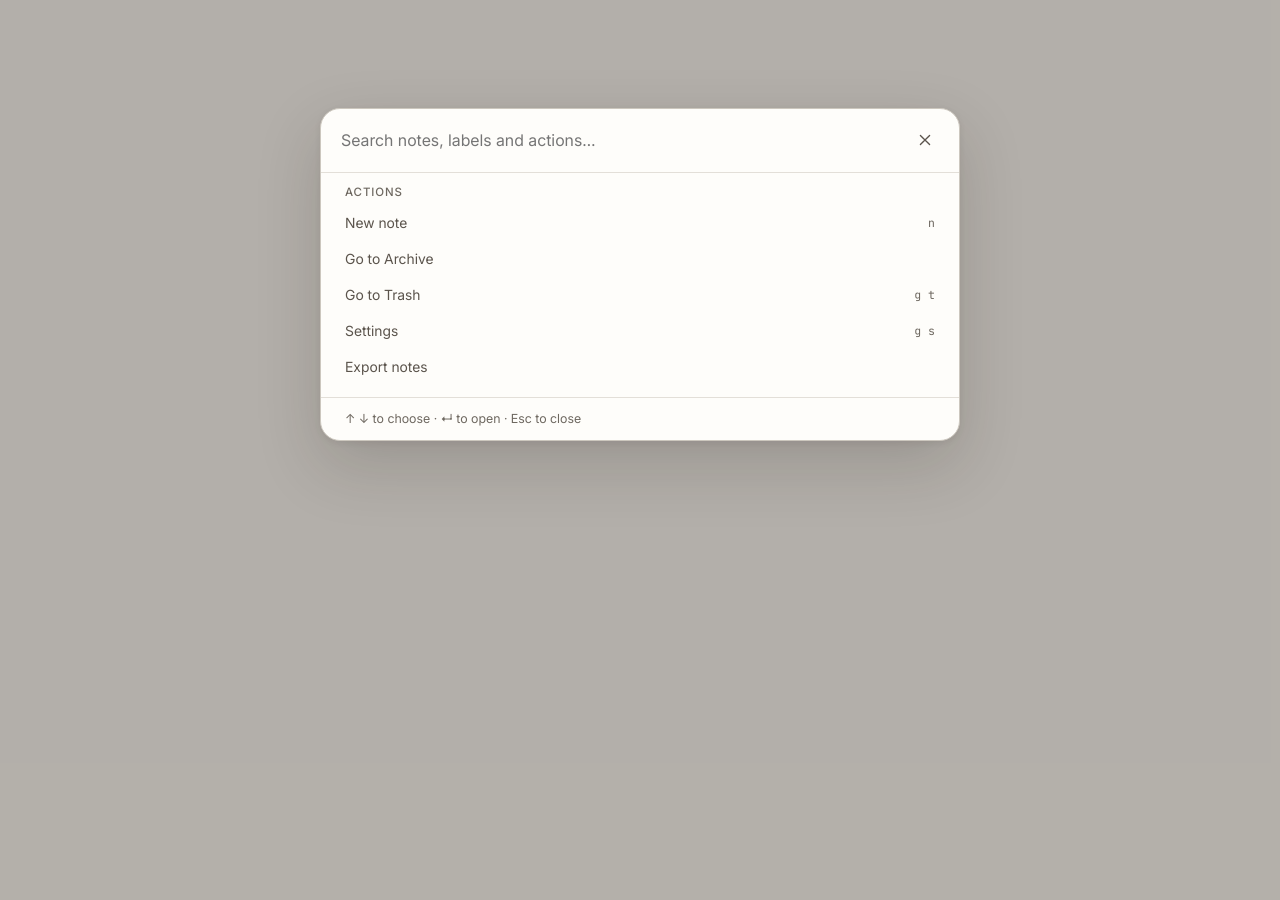
Test: asks a typed question with Enter and retains it beside the answer
The width and height of the screenshot is (1280, 900).
Type "What did I decide?" into the field named "Search and commands" at (612, 140), box top-left (321, 109), bottom-right (903, 172)
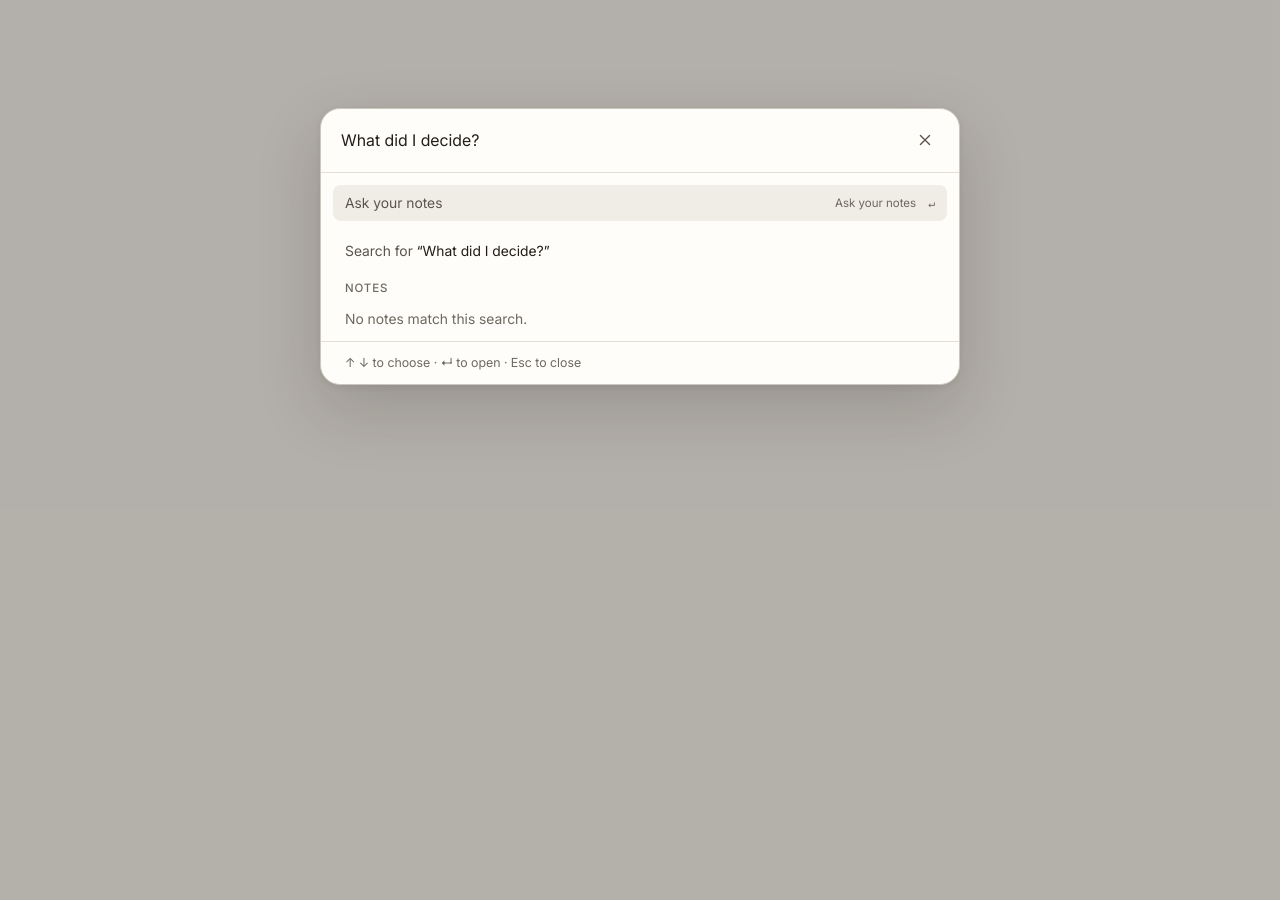
Now the option "Ask your notes Ask your notes" is shown, box top-left (333, 185), bottom-right (947, 221)
Press Enter in the field named "Search and commands", box top-left (321, 109), bottom-right (903, 172)
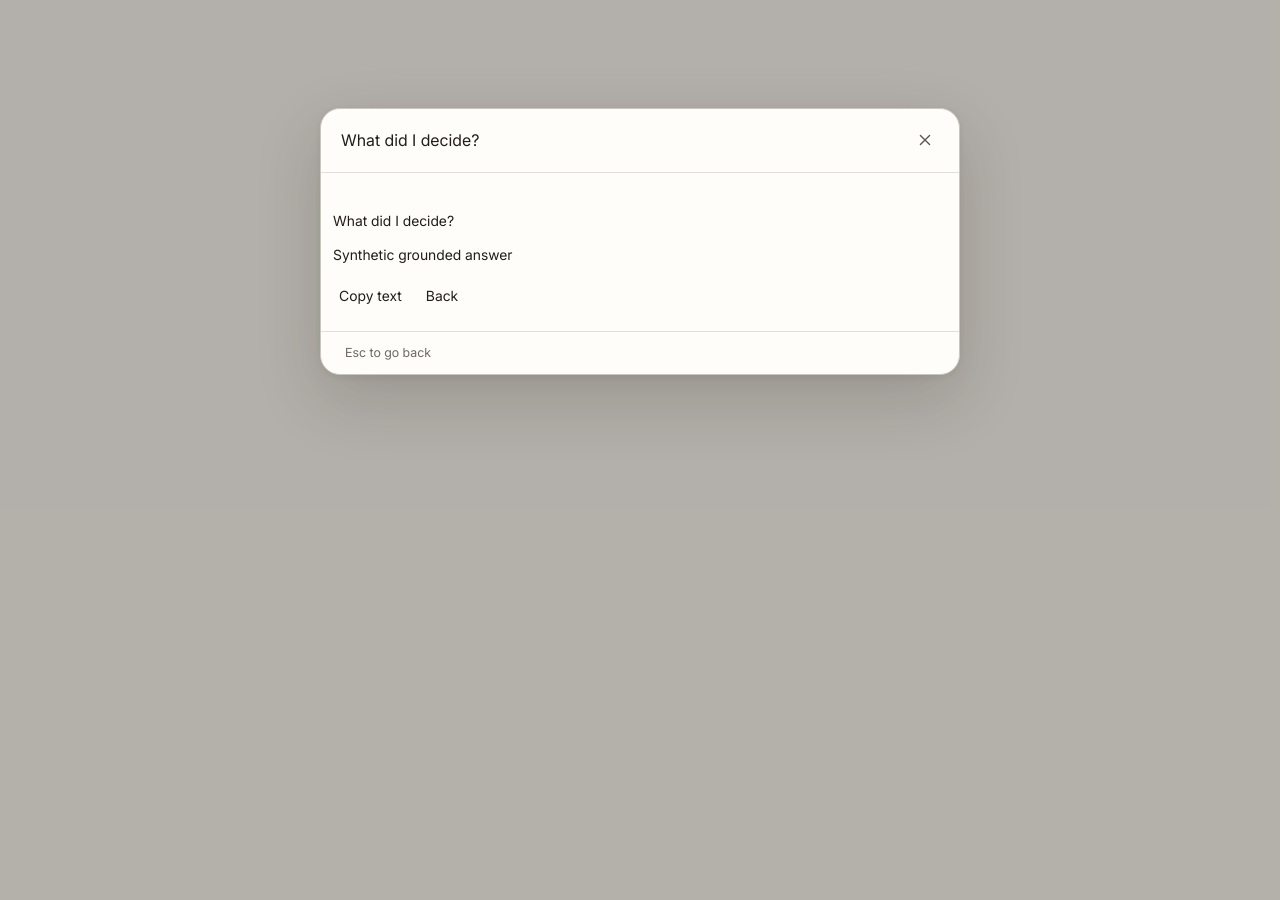
Now the text "What did I decide?" is shown, box top-left (333, 212), bottom-right (454, 229)
Now the text "Synthetic grounded answer" is shown, box top-left (333, 246), bottom-right (512, 263)
